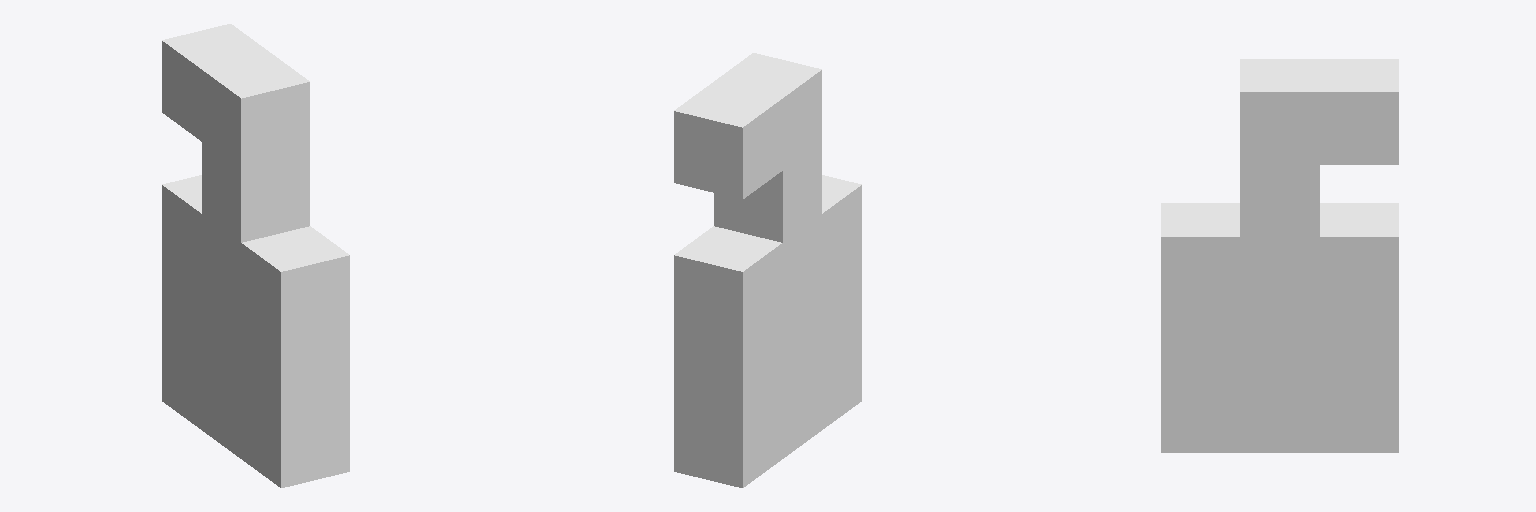
File: noar.obj
The picture shows the model from 3 angles: view 1: azimuth 30°, elevation 25°; view 2: azimuth 150°, elevation 25°; view 3: azimuth 270°, elevation 25°; orthographic projection.
Visible parts, largest first — view 1: object 1; view 2: object 1; view 3: object 1.
Boxes of the visible parts, x1=… form: object 1: x1=162, y1=24, x2=349, y2=487; object 1: x1=674, y1=53, x2=861, y2=487; object 1: x1=1161, y1=59, x2=1398, y2=452.
Size of the model in its own units: 0.1 by 0.5 by 0.3.